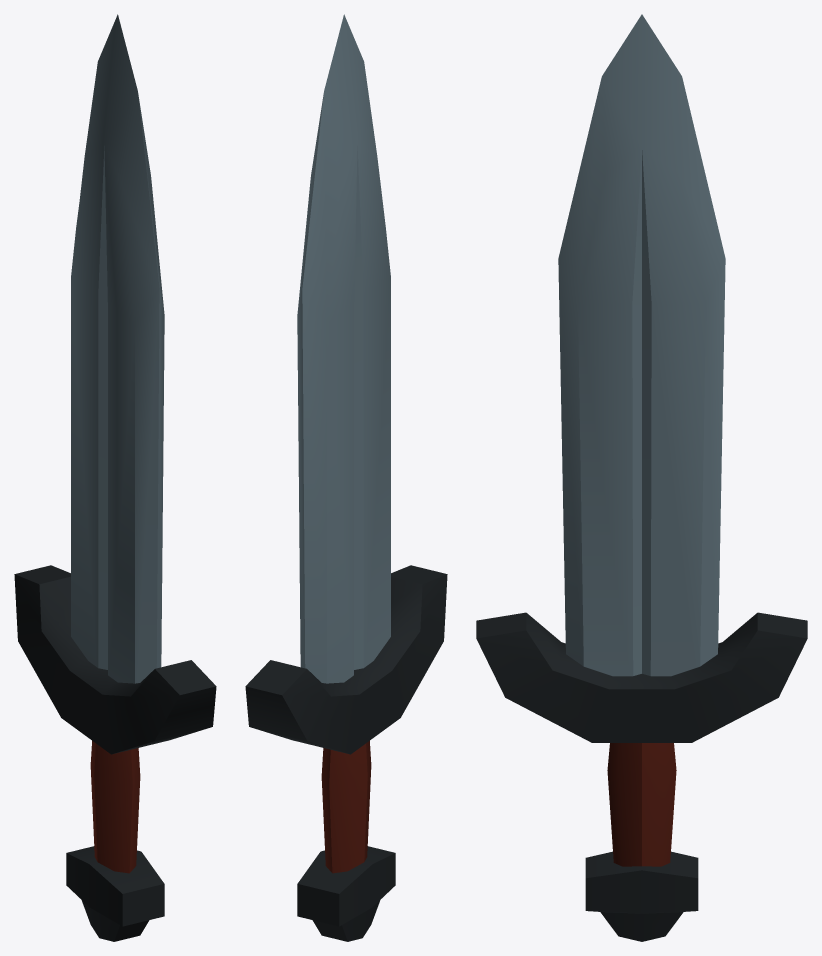
File: iron_sword.obj
3 renders of one model, left to right at view 1: azimuth 30°, elevation 25°; view 2: azimuth 150°, elevation 25°; view 3: azimuth 270°, elevation 25°, orthographic.
Visible parts, largest first — view 1: iron_sword_Plane.039; view 2: iron_sword_Plane.039; view 3: iron_sword_Plane.039.
Boxes of the visible parts, <box> form: iron_sword_Plane.039: <box>14,14,216,941</box>; iron_sword_Plane.039: <box>245,14,447,941</box>; iron_sword_Plane.039: <box>476,14,807,941</box>.
Size of the model in its own units: 0.0716 by 1.07 by 0.3504.
